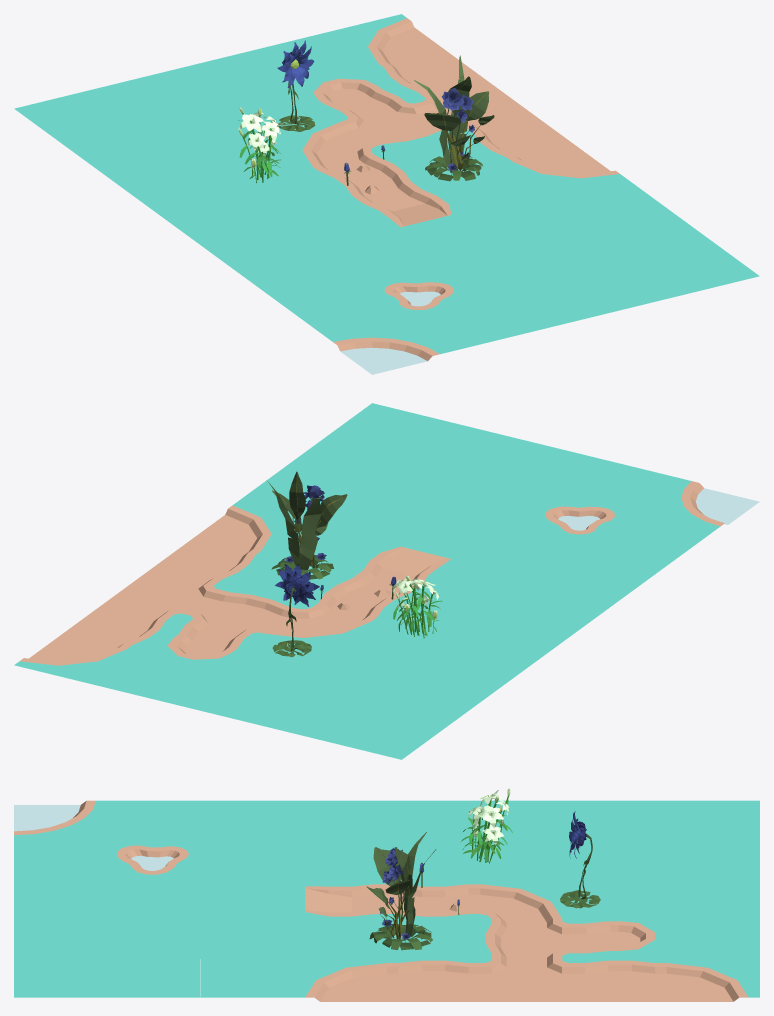
The model's file is ground.glb.
The picture shows the model from 3 angles, top to bottom: view 1: azimuth 30°, elevation 25°; view 2: azimuth 150°, elevation 25°; view 3: azimuth 270°, elevation 25°; orthographic projection. The views are drawn at different scales.
Visible parts, largest first — view 1: Flower01Plant, ground_riverCorner.001, ground_pathEndClosed.001, ground_pathCorner.002, ground_grass.007, ground_grass.018, ground_grass.006, ground_grass.013, ground_grass.014, ground_grass.015, ground_grass.020, ground_grass.002 (+31 smaller); view 2: Flower01Plant, ground_pathSplit.001, ground_grass.023, ground_grass.029, ground_grass.001, ground_riverTile.001, ground_grass.010, ground_grass.012, ground_grass.013, ground_grass.014, ground_grass.016, ground_grass.017 (+31 smaller); view 3: ground_pathSide.001, ground_pathSide.002, ground_pathCorner.002, ground_pathCorner.001, ground_pathSideOpen.001, Flower01Plant, ground_pathBend.001, ground_pathSplit.001, ground_grass.001, ground_riverTile.001, ground_grass.011, ground_grass.012 (+31 smaller).
Boxes of the visible parts, bbox=[...] form: Flower01Plant: bbox=[414, 55, 494, 181]; ground_riverCorner.001: bbox=[328, 319, 449, 374]; ground_pathEndClosed.001: bbox=[293, 66, 413, 117]; ground_pathCorner.002: bbox=[324, 14, 445, 65]; ground_grass.007: bbox=[271, 202, 392, 253]; ground_grass.018: bbox=[283, 286, 404, 337]; ground_grass.006: bbox=[316, 234, 437, 286]; ground_grass.013: bbox=[238, 253, 359, 305]; ground_grass.014: bbox=[193, 221, 314, 272]; ground_grass.015: bbox=[149, 188, 270, 239]; ground_grass.020: bbox=[405, 300, 526, 351]; ground_grass.002: bbox=[471, 197, 592, 248]; Flower01Plant: bbox=[267, 471, 347, 579]; ground_pathSplit.001: bbox=[181, 586, 302, 637]; ground_grass.023: bbox=[327, 403, 449, 454]; ground_grass.029: bbox=[324, 708, 446, 759]; ground_grass.001: bbox=[393, 506, 514, 557]; ground_riverTile.001: bbox=[515, 492, 637, 544]; ground_grass.010: bbox=[292, 656, 413, 707]; ground_grass.012: bbox=[360, 455, 481, 506]; ground_grass.013: bbox=[548, 544, 669, 595]; ground_grass.014: bbox=[503, 577, 624, 628]; ground_grass.016: bbox=[414, 642, 535, 694]; ground_grass.017: bbox=[369, 675, 490, 726]; ground_pathSide.001: bbox=[573, 958, 666, 1001]; ground_pathSide.002: bbox=[387, 958, 480, 1001]; ground_pathCorner.002: bbox=[666, 958, 759, 1001]; ground_pathCorner.001: bbox=[293, 958, 386, 1001]; ground_pathSideOpen.001: bbox=[480, 958, 573, 1001]; Flower01Plant: bbox=[366, 832, 436, 950]; ground_pathBend.001: bbox=[480, 879, 573, 922]; ground_pathSplit.001: bbox=[480, 919, 573, 962]; ground_grass.001: bbox=[200, 879, 293, 918]; ground_riverTile.001: bbox=[107, 840, 200, 879]; ground_grass.011: bbox=[107, 879, 200, 918]; ground_grass.012: bbox=[107, 919, 200, 958].
Size of the model in its own units: 5 by 1.5 by 8.
36 materials, 3 textured.
